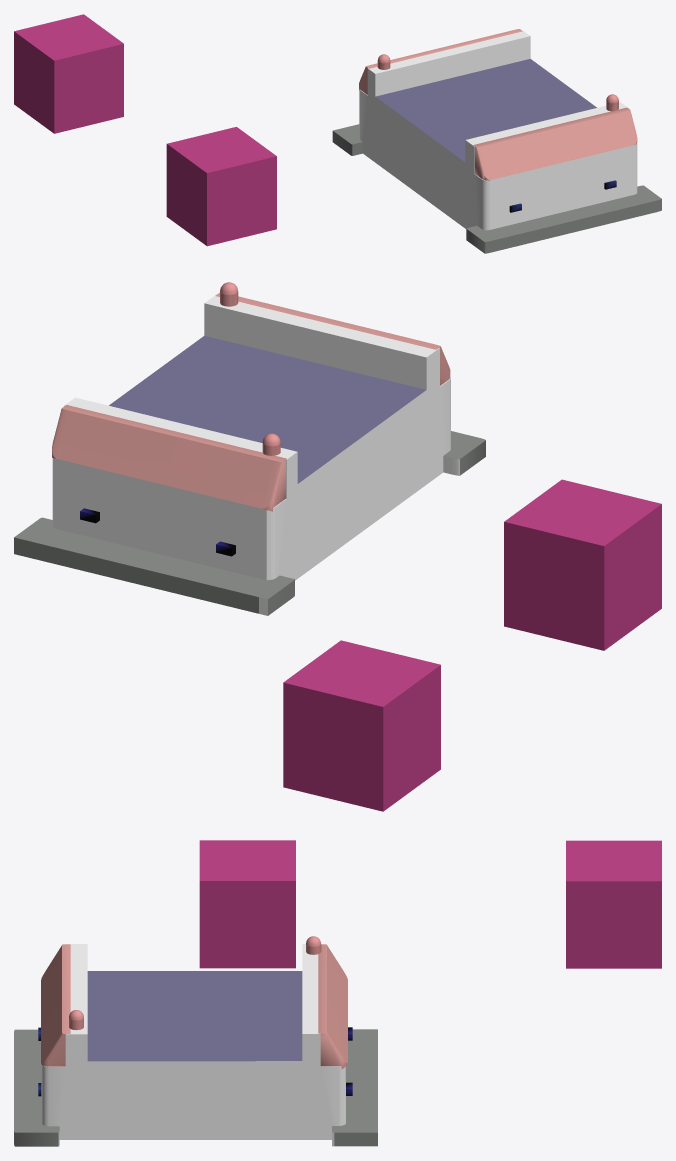
File: agv.glb
The picture shows the model from 3 angles, top to bottom: view 1: azimuth 30°, elevation 25°; view 2: azimuth 150°, elevation 25°; view 3: azimuth 270°, elevation 25°; orthographic projection. The views are drawn at different scales.
Parts seen in each view (by area): view 1: Shape_IndexedFaceSet.008, Shape_IndexedFaceSet.007, Shape_Box, Shape_Box.003, Shape_Box.001, Shape_IndexedFaceSet.010, Shape_Box.002, Shape_IndexedFaceSet.009, Shape_IndexedFaceSet.006; view 2: Shape_IndexedFaceSet.008, Shape_Box.001, Shape_IndexedFaceSet.007, Shape_Box, Shape_IndexedFaceSet.006, Shape_IndexedFaceSet.009, Shape_Box.003, Shape_Box.002, Shape_IndexedFaceSet.010; view 3: Shape_IndexedFaceSet.008, Shape_IndexedFaceSet.007, Shape_Box, Shape_Box.001, Shape_Box.003, Shape_IndexedFaceSet.009, Shape_Box.002, Shape_IndexedFaceSet.006, Shape_IndexedFaceSet.010.
Boxes of the visible parts, x1,y1,x2,y2 form: Shape_IndexedFaceSet.008: [359, 31, 637, 230]; Shape_IndexedFaceSet.007: [375, 58, 596, 161]; Shape_Box: [166, 127, 276, 246]; Shape_Box.003: [14, 14, 123, 132]; Shape_Box.001: [14, 14, 123, 133]; Shape_IndexedFaceSet.010: [473, 107, 637, 180]; Shape_Box.002: [168, 127, 276, 242]; Shape_IndexedFaceSet.009: [332, 124, 661, 253]; Shape_IndexedFaceSet.006: [359, 29, 522, 94]; Shape_IndexedFaceSet.008: [52, 293, 459, 615]; Shape_Box.001: [283, 640, 440, 811]; Shape_IndexedFaceSet.007: [109, 335, 425, 483]; Shape_Box: [504, 479, 661, 650]; Shape_IndexedFaceSet.006: [52, 405, 286, 511]; Shape_IndexedFaceSet.009: [14, 431, 485, 615]; Shape_Box.003: [283, 647, 433, 808]; Shape_Box.002: [504, 484, 601, 649]; Shape_IndexedFaceSet.010: [215, 292, 450, 385]; Shape_IndexedFaceSet.008: [41, 944, 345, 1146]; Shape_IndexedFaceSet.007: [87, 971, 302, 1061]; Shape_Box: [199, 840, 295, 968]; Shape_Box.001: [566, 840, 661, 968]; Shape_Box.003: [566, 840, 661, 968]; Shape_IndexedFaceSet.009: [14, 1029, 377, 1146]; Shape_Box.002: [199, 840, 295, 968]; Shape_IndexedFaceSet.006: [318, 944, 347, 1068]; Shape_IndexedFaceSet.010: [41, 944, 70, 1066].
Bounding box in the file's own units: 34.06 × 8.89 × 42.47.
